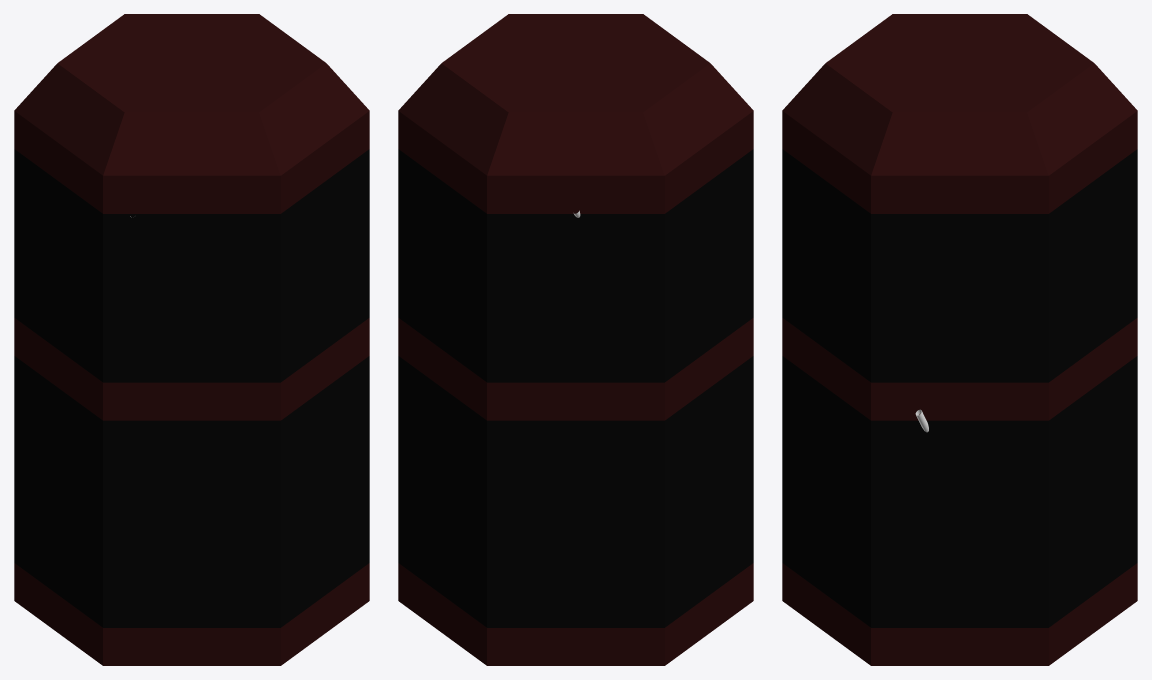
The model's file is BatteryModel.fbx.
The picture shows the model from 3 angles, left to right: view 1: azimuth 30°, elevation 25°; view 2: azimuth 150°, elevation 25°; view 3: azimuth 270°, elevation 25°; orthographic projection.
Visible parts, largest first — view 1: TheGlass, The Battery; view 2: TheGlass, The Battery; view 3: TheGlass, The Battery.
Part boxes in pixels (<box>): TheGlass: <box>14,149,369,627</box>; The Battery: <box>14,14,369,665</box>; TheGlass: <box>398,149,753,627</box>; The Battery: <box>398,14,753,665</box>; TheGlass: <box>782,149,1137,627</box>; The Battery: <box>782,14,1137,665</box>.
Size of the model in its own units: 23.08 by 25.99 by 43.37.
